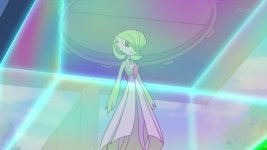gardevoir: (95, 27, 166, 150)
